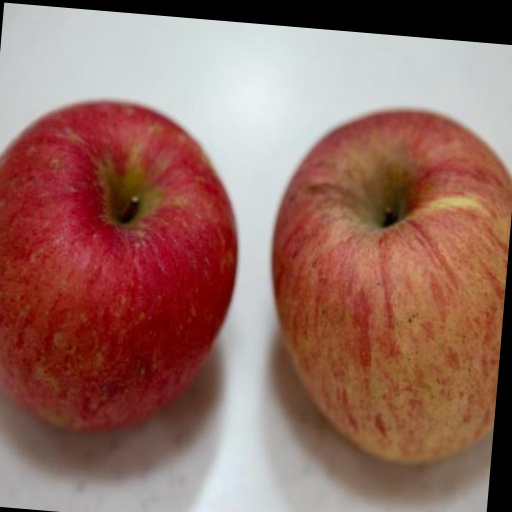fruit: (272, 111, 512, 462), (0, 102, 236, 430)
